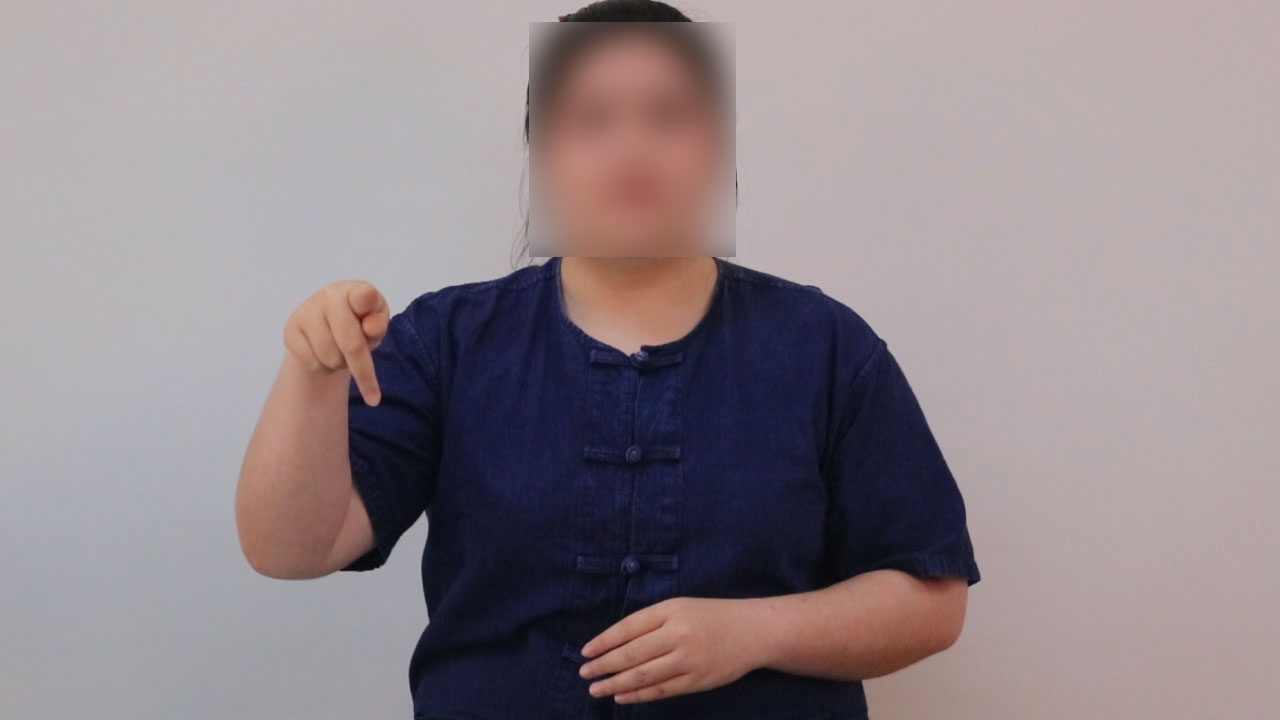por: (282, 256, 399, 417)
